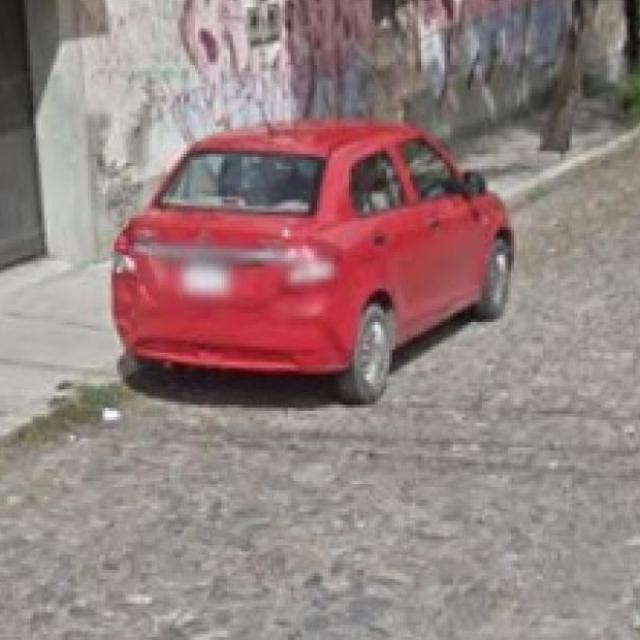car: (103, 105, 511, 414)
